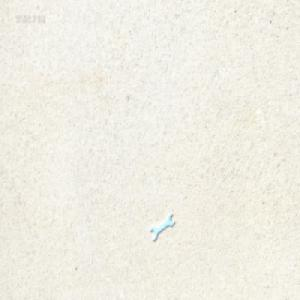Wrench: (149, 214, 174, 243)
